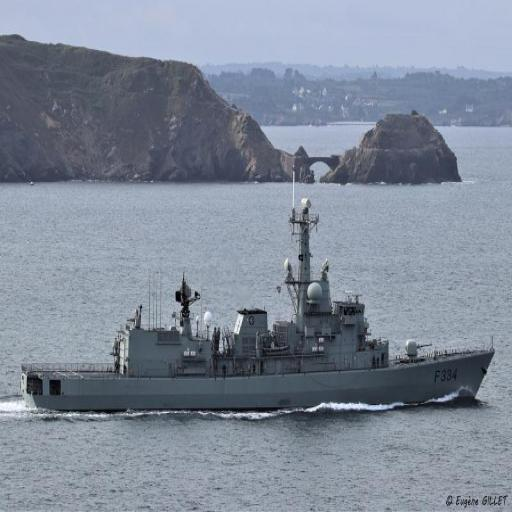Fragata: (18, 171, 501, 427)
